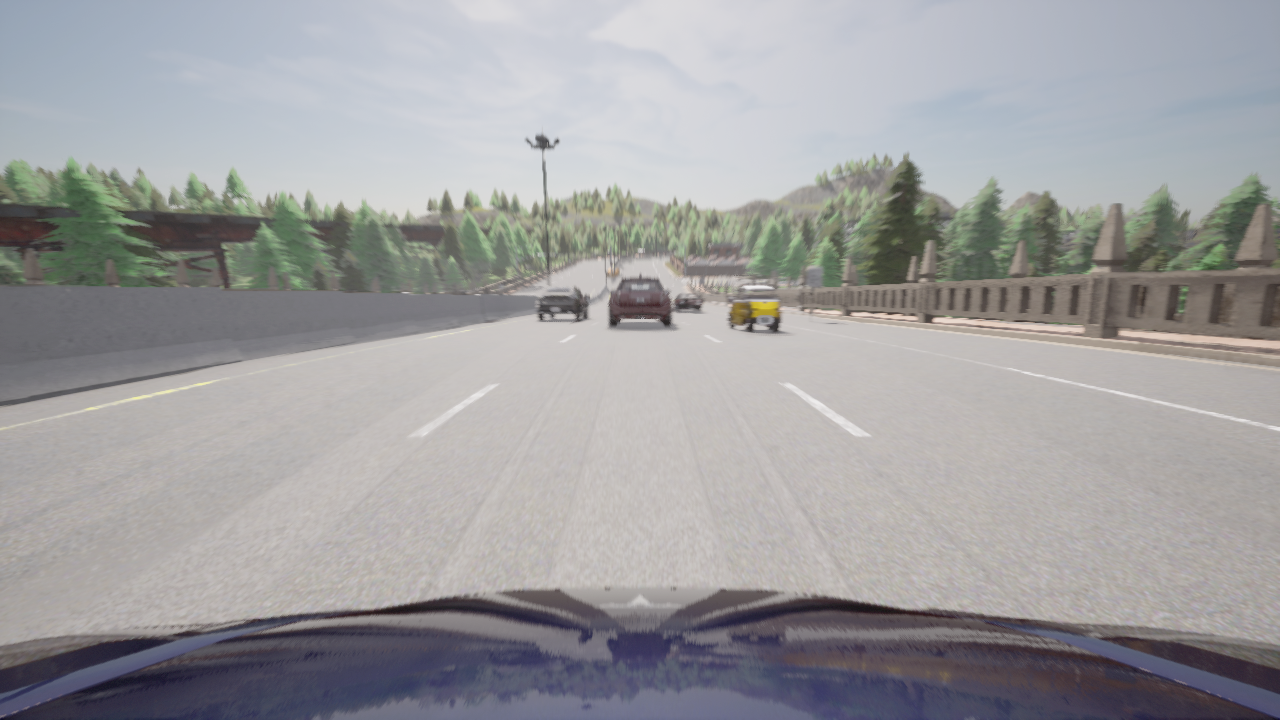cyclist: (0, 588, 1279, 719), (608, 277, 671, 327), (728, 285, 780, 332), (536, 286, 589, 320), (673, 294, 702, 311)
